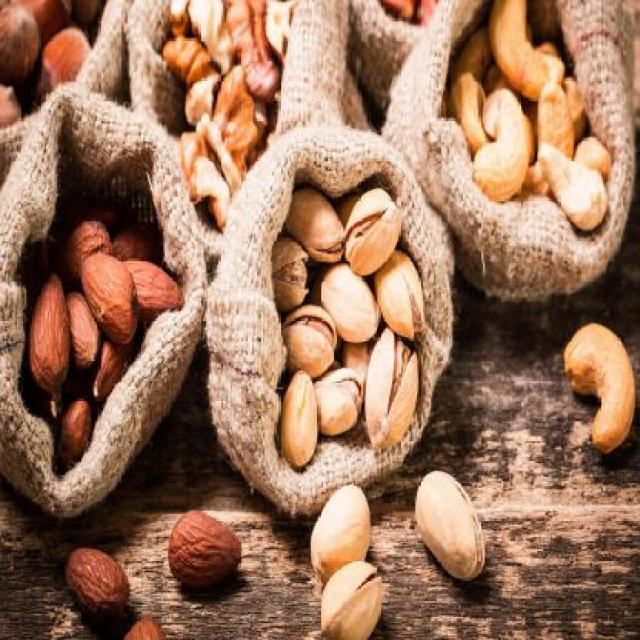Frutta secca: (269, 187, 420, 471), (24, 214, 188, 456), (447, 19, 610, 236), (304, 484, 384, 640), (563, 320, 637, 448), (413, 467, 484, 587), (168, 510, 246, 593)
